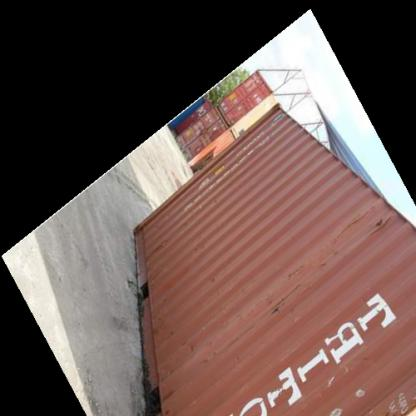Damage: (270, 284, 312, 326), (184, 330, 226, 366), (146, 227, 180, 267), (369, 208, 397, 238), (160, 380, 186, 404)
